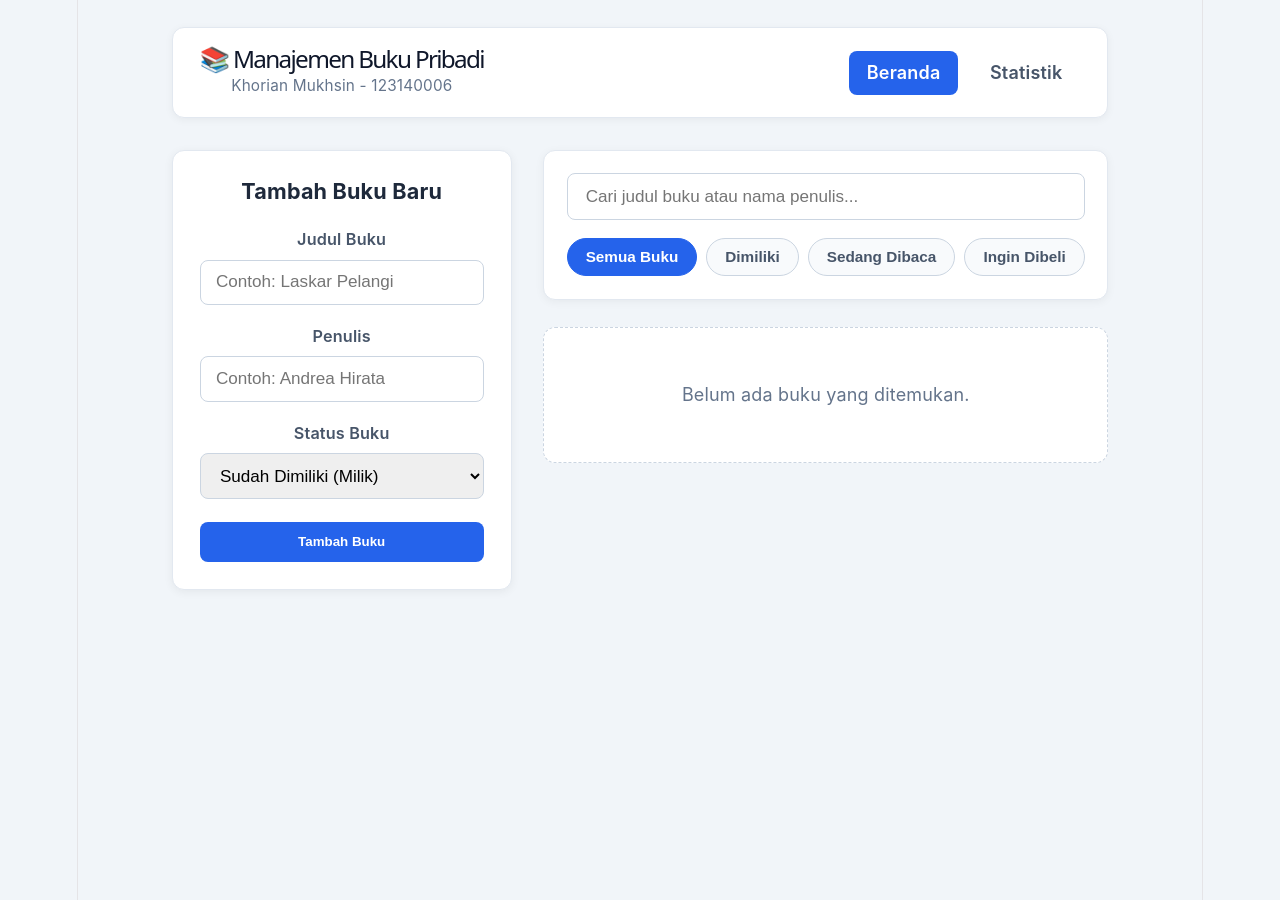
Test: Pengujian Unit Aplikasi Manajemen Buku Pribadi › 5. Menambahkan buku baru di halaman Beranda dan memeriksa perhitungannya di halaman Statistik
The image size is (1280, 900).
Tambah 1 buku baru
Step 1. Type "Clean Code" into the field labelled "Judul Buku" → (342, 282), box top-left (200, 260), bottom-right (484, 305)
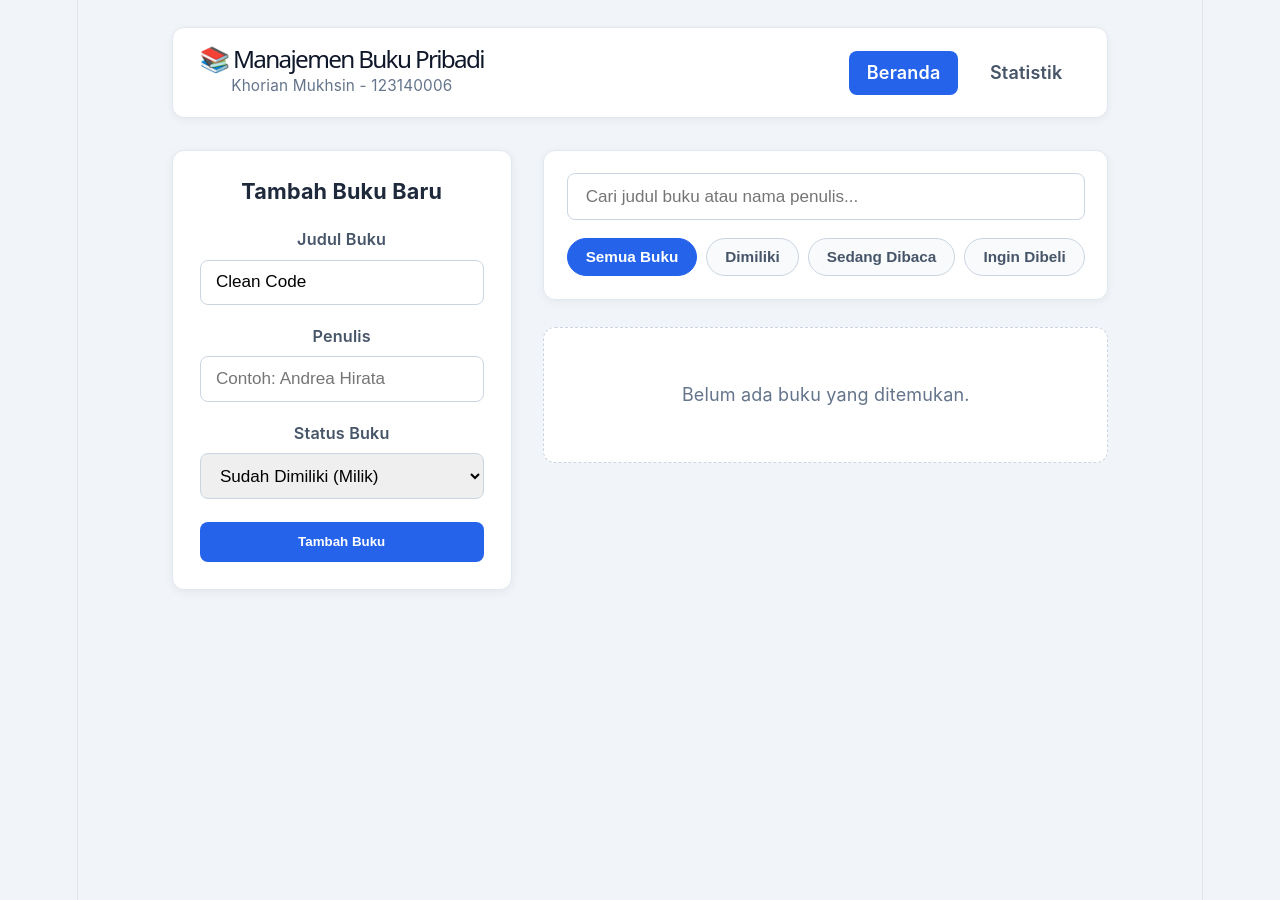
Step 2. Type "Robert C. Martin" into the field labelled "Penulis" → (342, 379), box top-left (200, 356), bottom-right (484, 402)
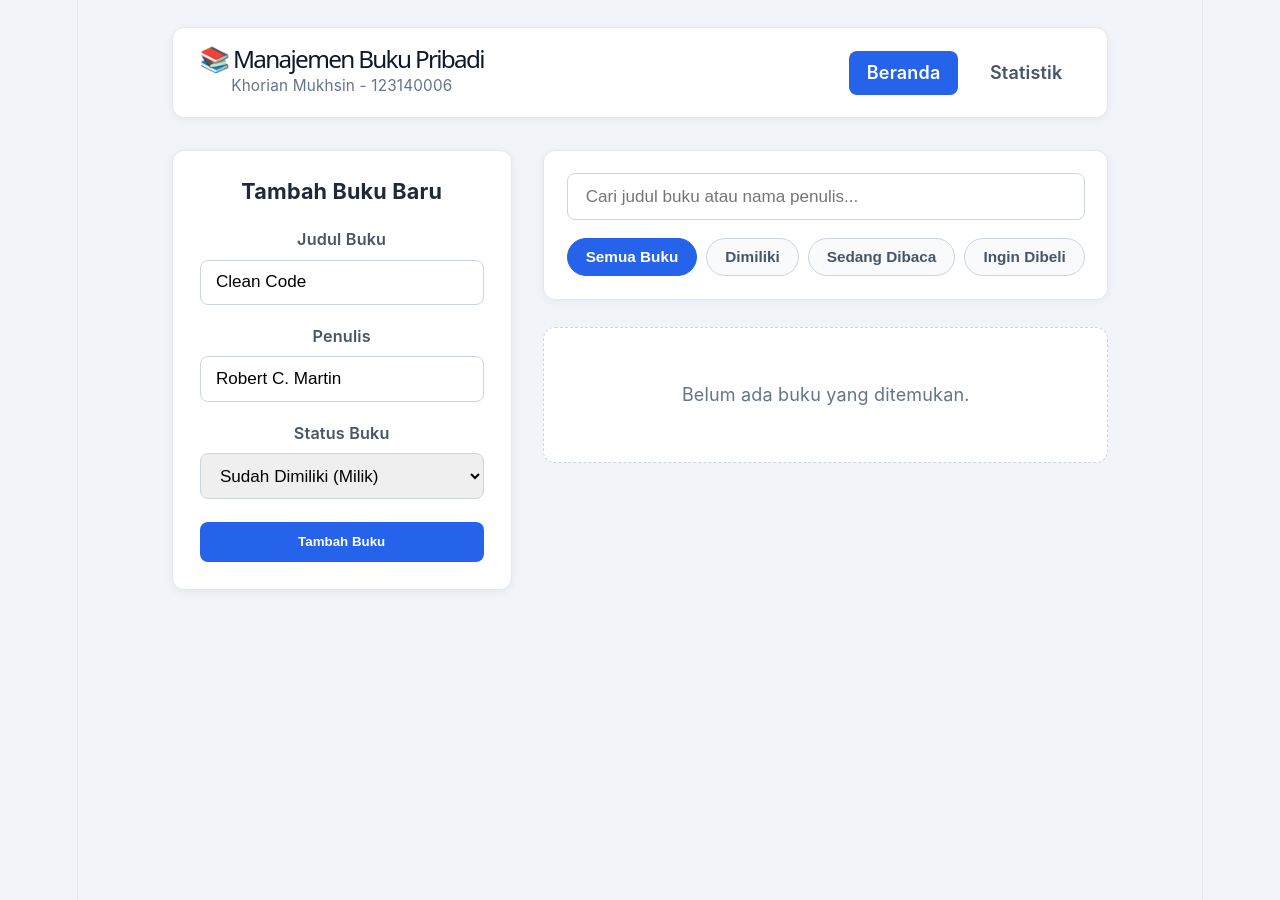
Step 3. Click the button "Tambah Buku" → (342, 542), box top-left (200, 522), bottom-right (484, 562)
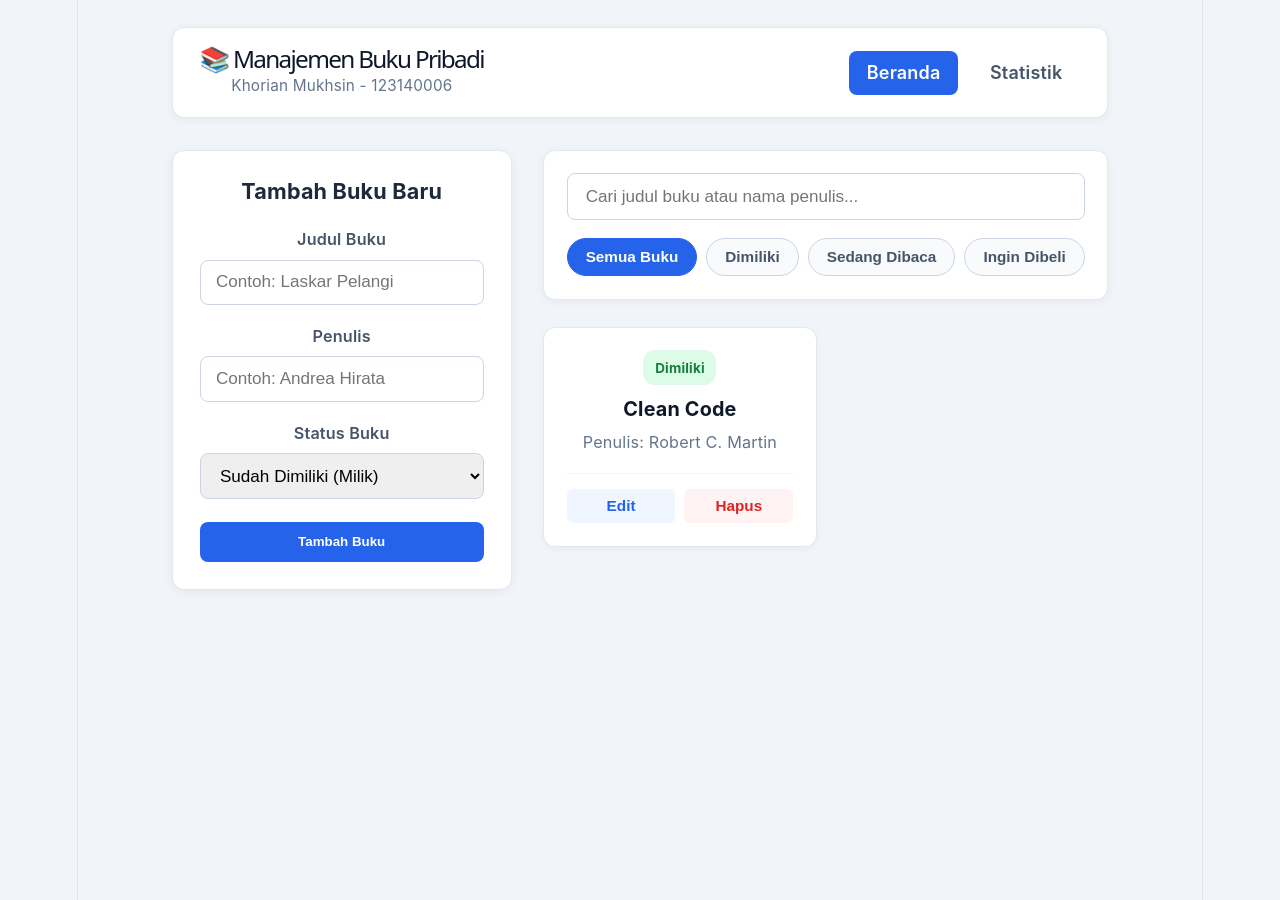
Expected: the heading "Clean Code" is shown, top-left (623, 397), bottom-right (737, 421)
Pindah ke halaman Statistik
Step 4. Click the link "Statistik" → (1026, 72), box top-left (990, 62), bottom-right (1062, 82)
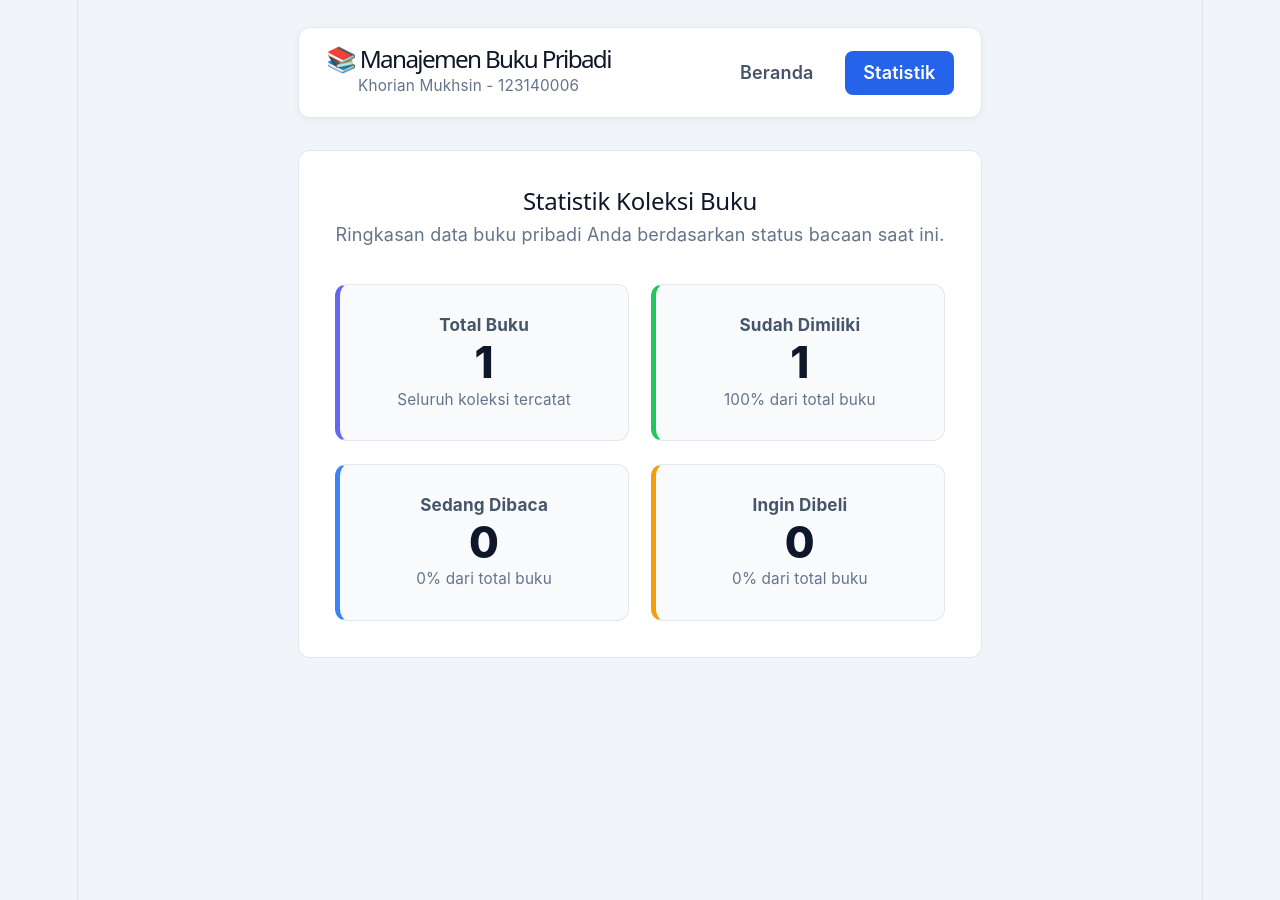
Expected: the heading "Statistik Koleksi Buku" is shown, top-left (523, 184), bottom-right (757, 217)
Expected: the text "100% dari total buku" is shown, top-left (724, 390), bottom-right (876, 409)
